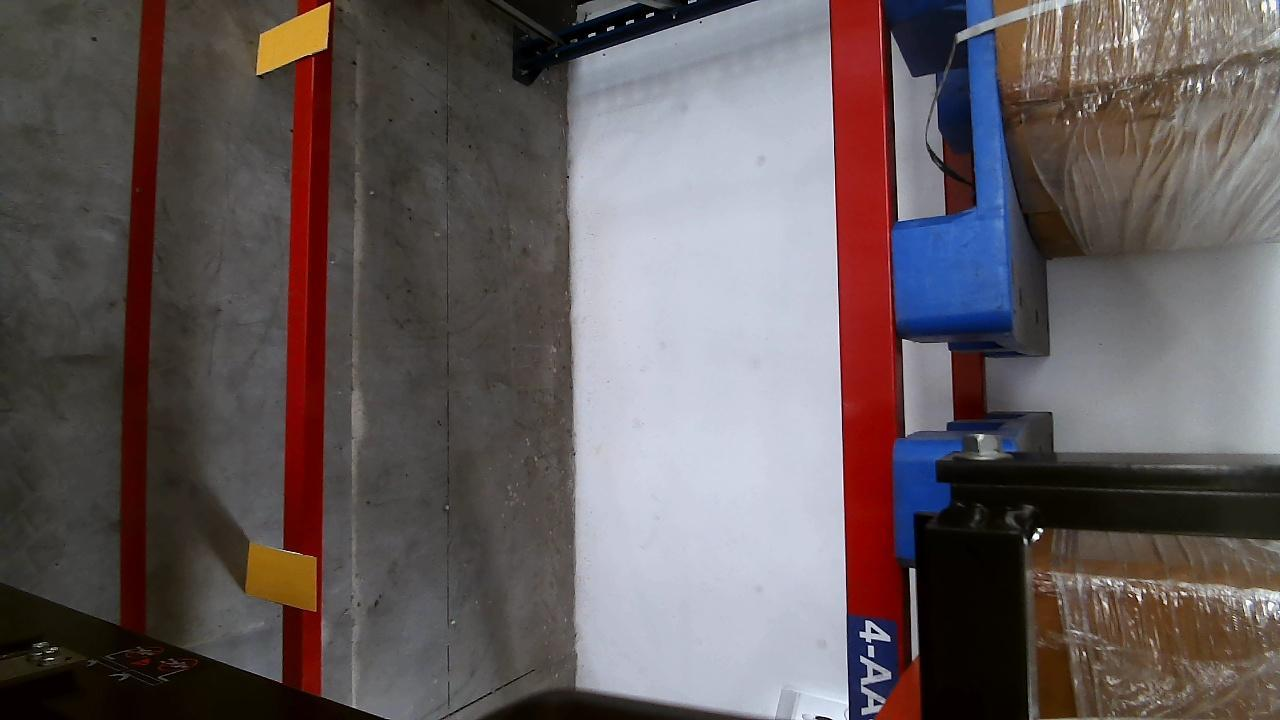orange_strip: (256, 6, 329, 79), (241, 539, 315, 611)
red_line: (121, 1, 167, 632)
